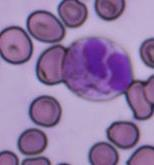N: (62, 36, 132, 100)
